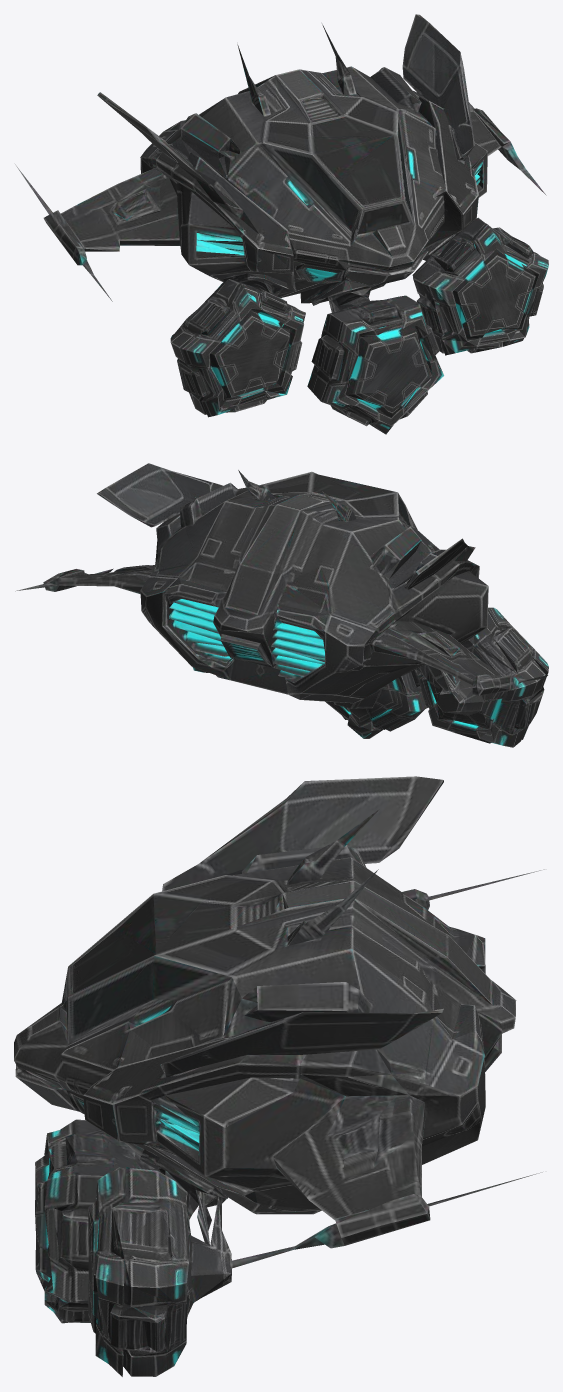
Rendered from Boss6-v2.glb.
The picture shows the model from 3 angles, top to bottom: view 1: azimuth 30°, elevation 25°; view 2: azimuth 150°, elevation 25°; view 3: azimuth 270°, elevation 25°; orthographic projection. The views are drawn at different scales.
Visible parts, largest first — view 1: output_unwrapped; view 2: output_unwrapped; view 3: output_unwrapped.
Boxes of the visible parts, box(x1,y1,x2,y2) form: output_unwrapped: box(15, 14, 548, 434); output_unwrapped: box(15, 463, 548, 747); output_unwrapped: box(14, 776, 544, 1376).
Bounding box in the file's own units: 1.9 × 1.34 × 1.34.
Materials: 1 (1 with a texture image).
